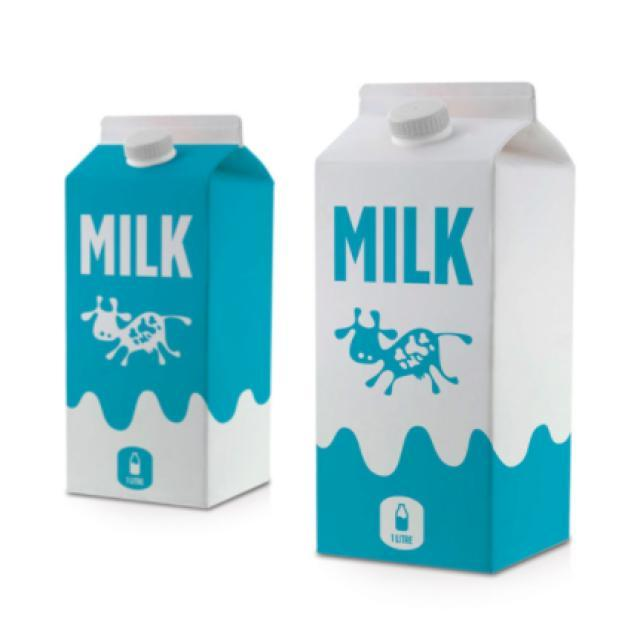Carton: (298, 76, 586, 605), (42, 94, 288, 534)
